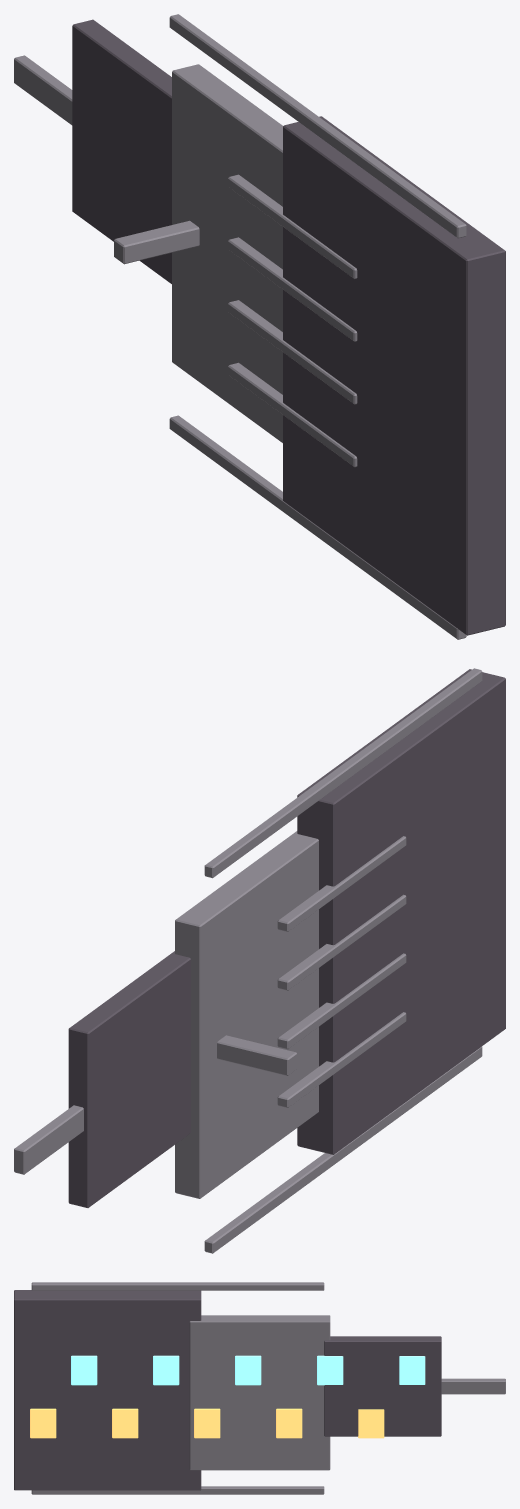
File: facade_tower_l.glb
3 views of the same model, one above another, from view 1: azimuth 30°, elevation 25°; view 2: azimuth 150°, elevation 25°; view 3: azimuth 270°, elevation 25° (orthographic). The views are drawn at different scales.
Visible parts, largest first — view 1: FacadeTower_L; view 2: FacadeTower_L; view 3: FacadeTower_L.
Part boxes in pixels (<box>): FacadeTower_L: <box>14,14,505,639</box>; FacadeTower_L: <box>14,668,505,1253</box>; FacadeTower_L: <box>14,1282,505,1494</box>.
Bounding box in the file's own units: 1.09 × 3.96 × 8.4.
